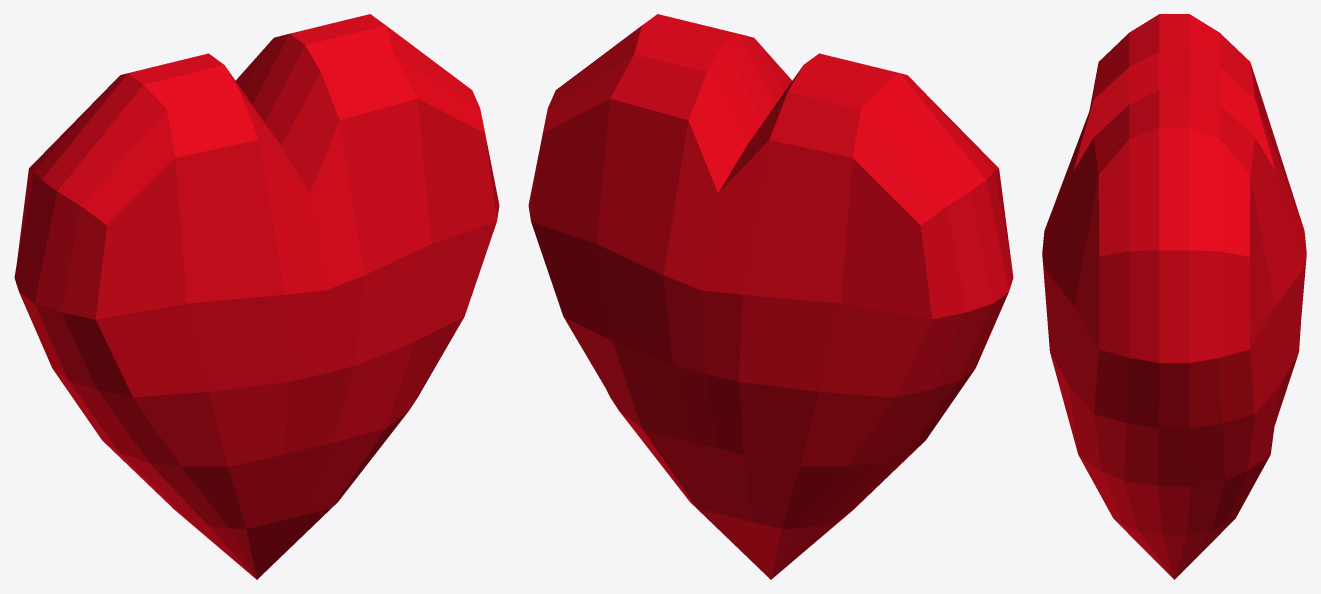
Rendered from Heart.fbx.
The picture shows the model from 3 angles, left to right: view 1: azimuth 30°, elevation 25°; view 2: azimuth 150°, elevation 25°; view 3: azimuth 270°, elevation 25°; orthographic projection. The views are drawn at different scales.
Visible parts, largest first — view 1: Heart; view 2: Heart; view 3: Heart.
Boxes of the visible parts, left/top/right/bottom form: Heart: left=14, top=14, right=499, bottom=579; Heart: left=528, top=14, right=1013, bottom=579; Heart: left=1042, top=14, right=1306, bottom=579.
Size of the model in its own units: 175 by 192 by 90.57.
